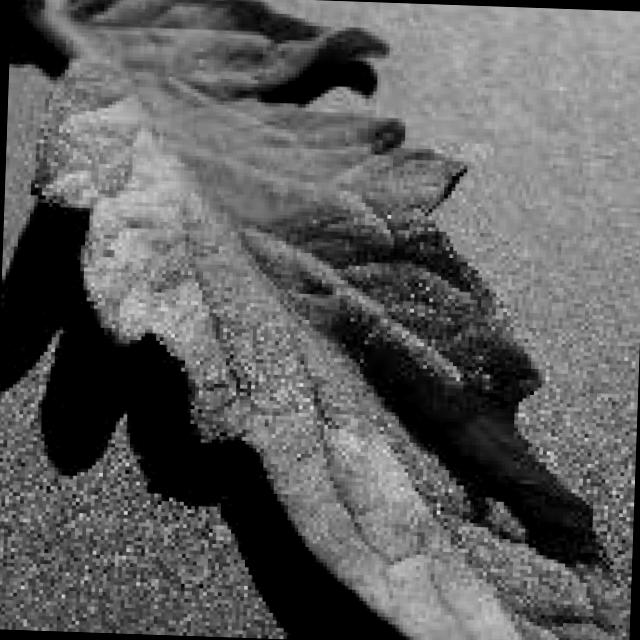leaf mold: (11, 0, 628, 640)
